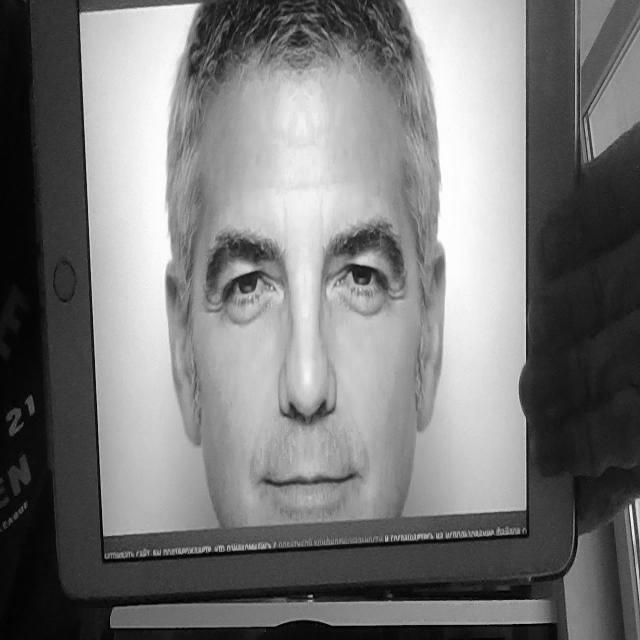fake: (26, 0, 588, 610)
